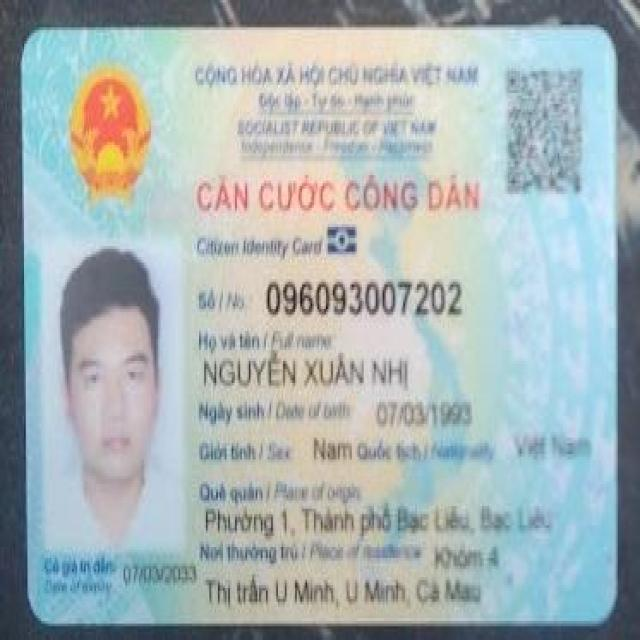current_place: (207, 575, 483, 616), (429, 541, 507, 576)
dob: (372, 399, 475, 436)
expire_date: (120, 556, 198, 594)
gender: (309, 432, 355, 465)
id: (260, 276, 471, 323)
name: (199, 354, 415, 397)
nationality: (510, 424, 598, 476)
origin_place: (199, 472, 562, 539)
